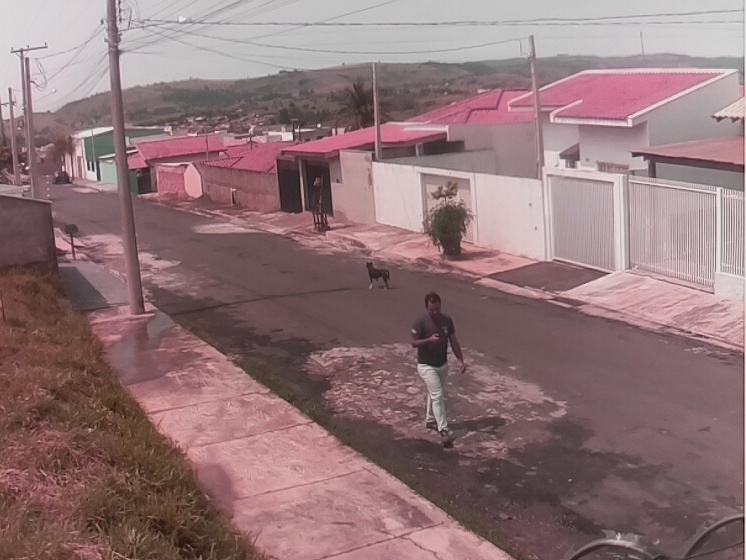person: (408, 291, 467, 448)
